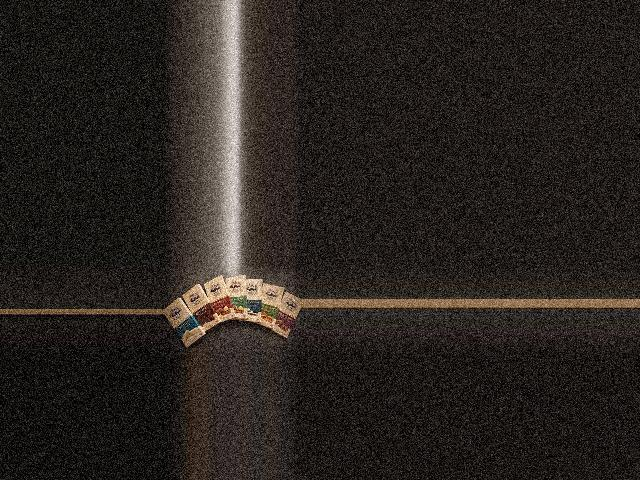chocolate: (165, 295, 205, 351)
